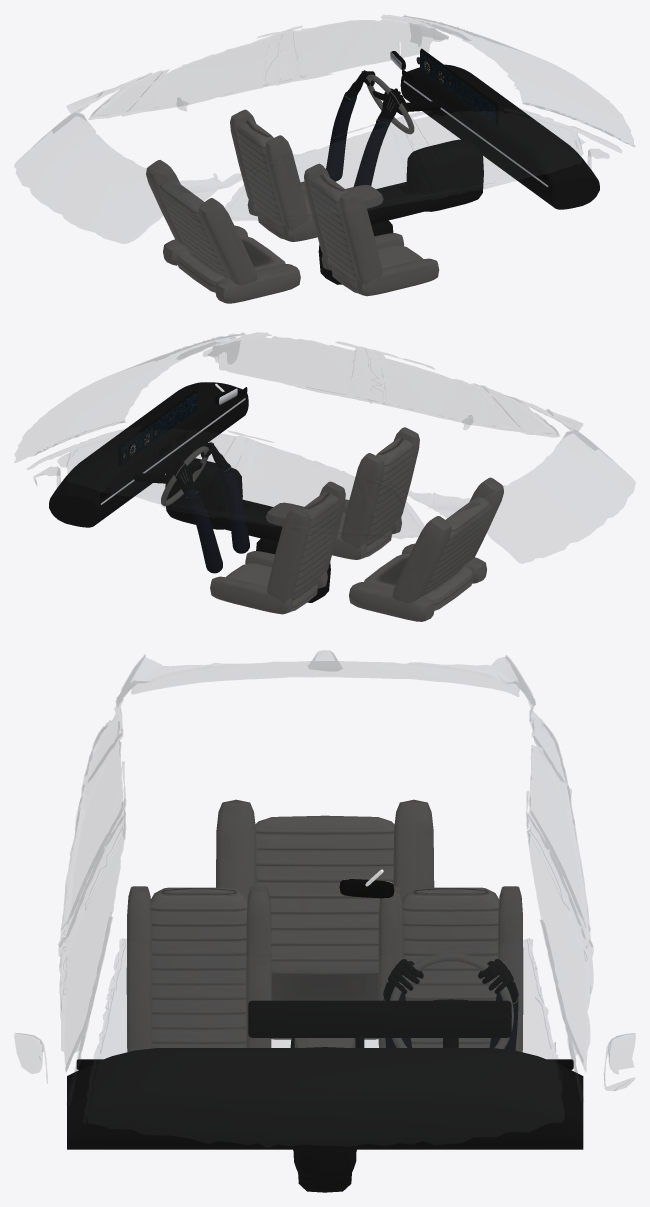
File: rp1_vanta_cockpit.glb
3 views of the same model, one above another, from view 1: azimuth 30°, elevation 25°; view 2: azimuth 150°, elevation 25°; view 3: azimuth 270°, elevation 25° (orthographic). The views are drawn at different scales.
Visible parts, largest first — view 1: cockpit_shell, cabin_glass, window_R, window_L, hands, steering_wheel; view 2: cockpit_shell, cabin_glass, window_L, window_R, hands, steering_wheel; view 3: cockpit_shell, cabin_glass, window_R, window_L, hands, steering_wheel.
Part boxes in pixels (box(x1,y1,x2,y2)): cockpit_shell: box(146, 41, 599, 303); cabin_glass: box(14, 16, 634, 243); window_R: box(402, 103, 608, 200); window_L: box(266, 15, 457, 86); hands: box(326, 70, 404, 186); steering_wheel: box(366, 74, 414, 134); cockpit_shell: box(49, 382, 503, 621); cabin_glass: box(14, 334, 635, 563); window_L: box(37, 421, 247, 517); window_R: box(194, 333, 384, 404); hands: box(171, 442, 249, 573); steering_wheel: box(161, 446, 208, 506); cockpit_shell: box(67, 799, 583, 1192); cabin_glass: box(14, 651, 635, 1147); window_R: box(34, 812, 125, 1083); window_L: box(526, 813, 632, 1090); hands: box(383, 958, 518, 1050); steering_wheel: box(390, 952, 513, 1049).
Size of the model in its own units: 3.31 by 1.29 by 1.93.
4 materials, 2 textured.
